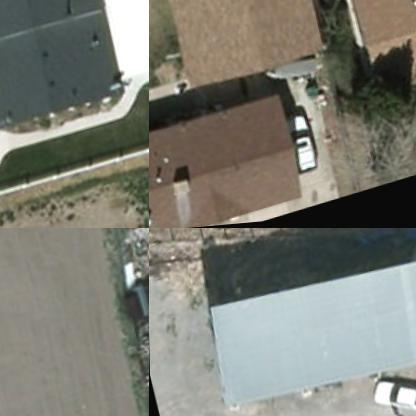car: (363, 366, 415, 415), (280, 118, 316, 182)
